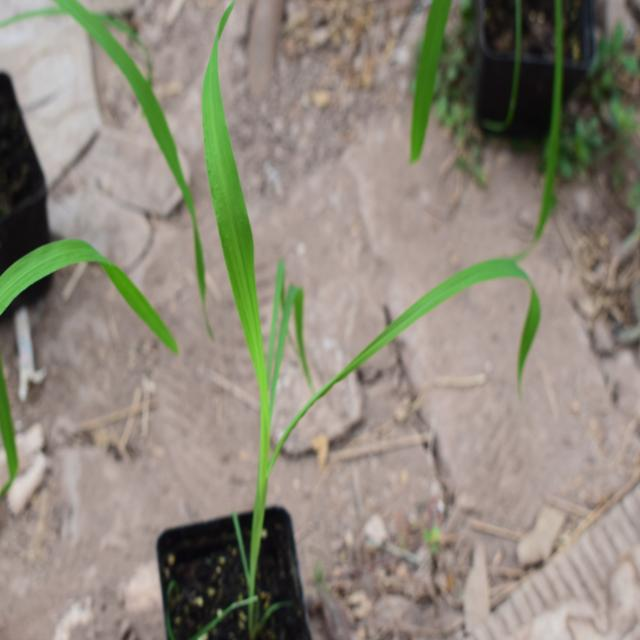barnyard_grass: (121, 42, 540, 430)
